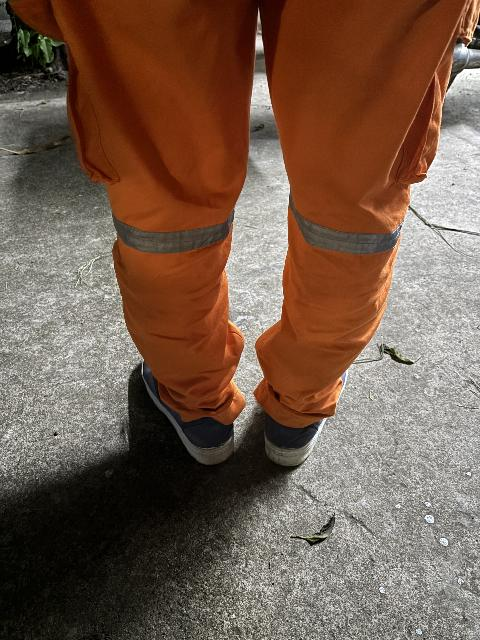shoes: (131, 348, 241, 455), (248, 367, 369, 461)
